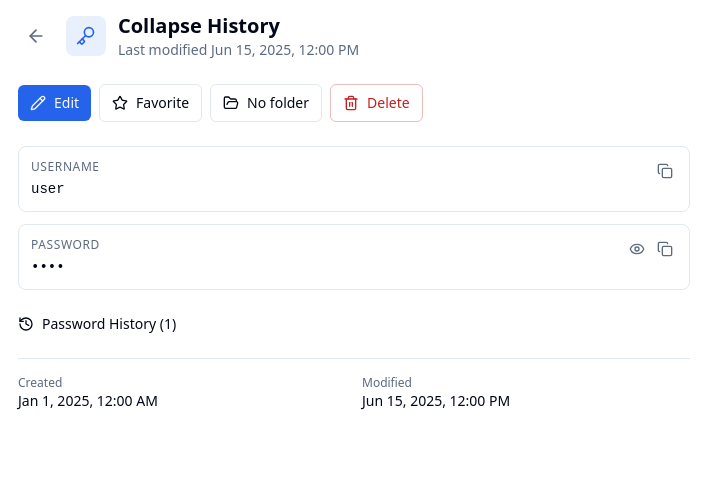
it: VaultItemDetail › Password history › collapses password history when clicked again
Click the button "Password History (1)" at (97, 324), box [18,314,176,334]
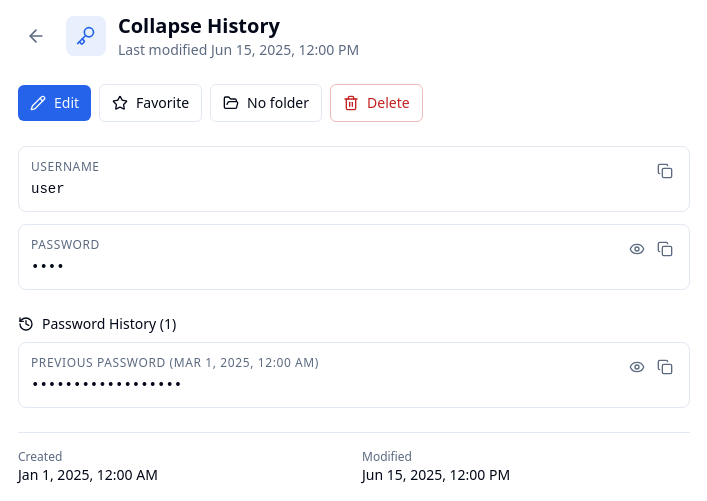
Expected: the text "Previous password (Mar 1, 2025, 12:00 AM)" is shown, [31,354,319,371]
Click the button "Password History (1)" at (97, 324), box [18,314,176,334]
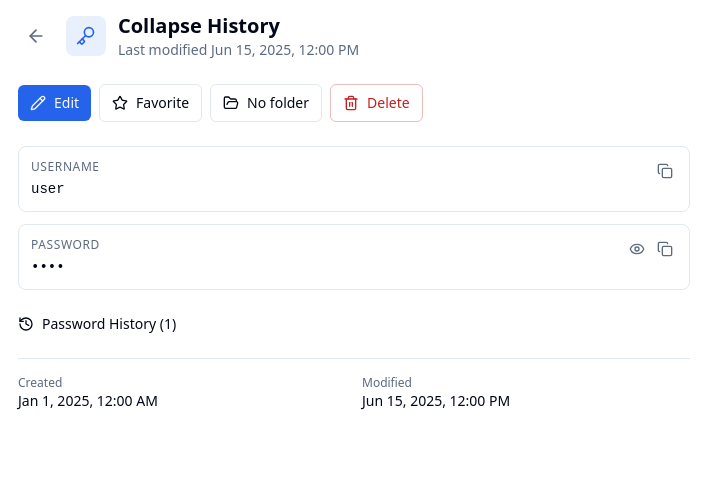
Expected: the text "Previous password" is gone
